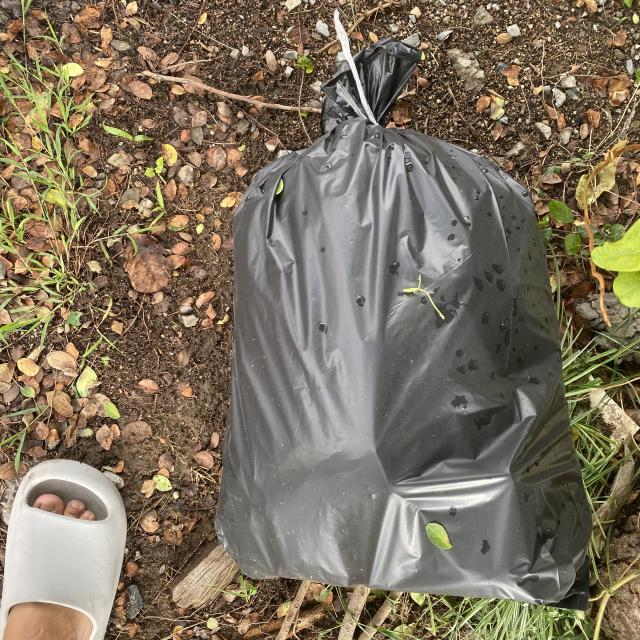Single-layer Plastic: (216, 25, 590, 609)
